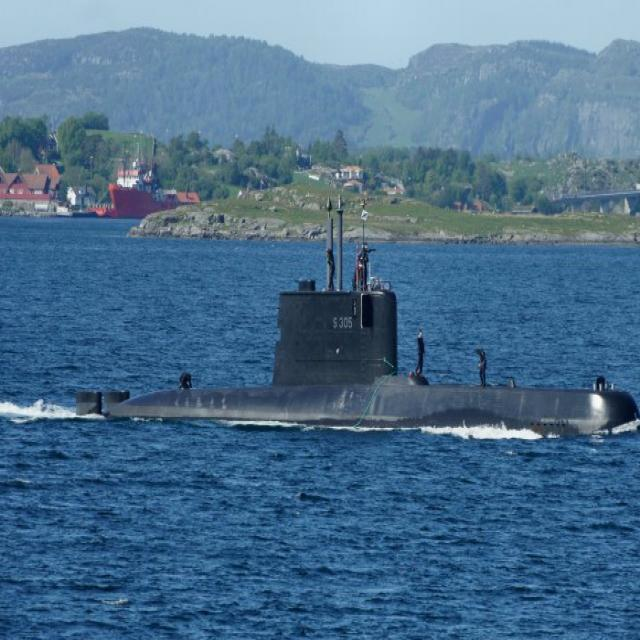submarine: (78, 195, 640, 418)
